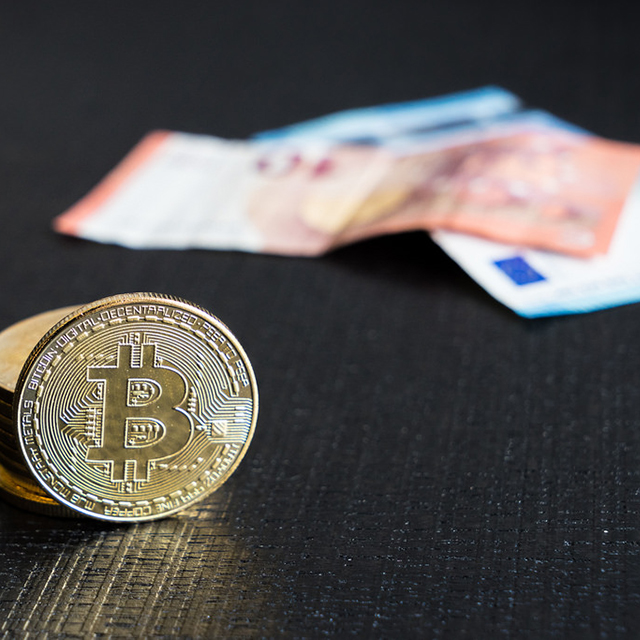banknotes: (54, 128, 629, 256)
